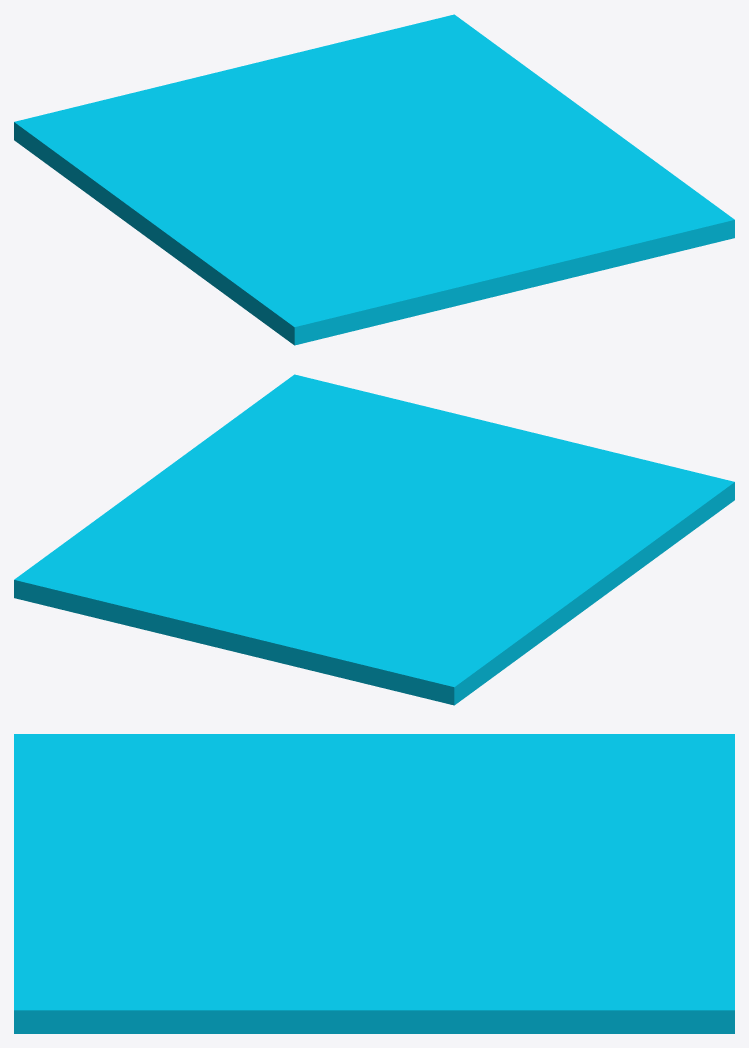
File: Floor_main.fbx
3 renders of one model, top to bottom at view 1: azimuth 30°, elevation 25°; view 2: azimuth 150°, elevation 25°; view 3: azimuth 270°, elevation 25°, orthographic. The views are drawn at different scales.
Visible parts, largest first — view 1: Ground_low; view 2: Ground_low; view 3: Ground_low.
Boxes of the visible parts, x1=… form: Ground_low: x1=14, y1=14, x2=734, y2=345; Ground_low: x1=14, y1=374, x2=734, y2=705; Ground_low: x1=14, y1=734, x2=734, y2=1033.
Bounding box in the file's own units: 215392 × 8547 × 237614.
